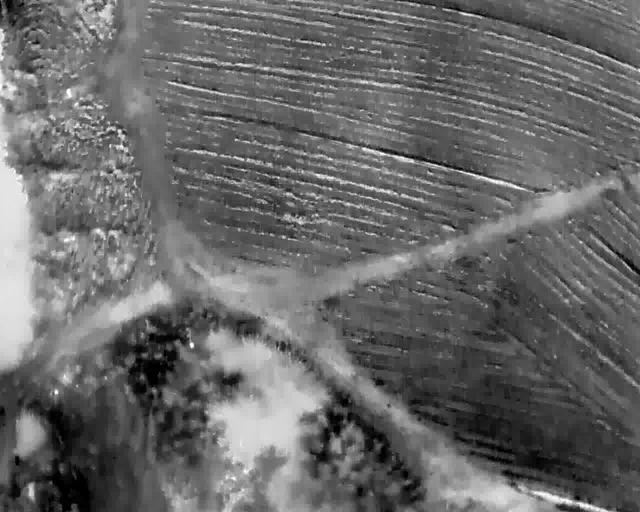person: (65, 88, 73, 98)
